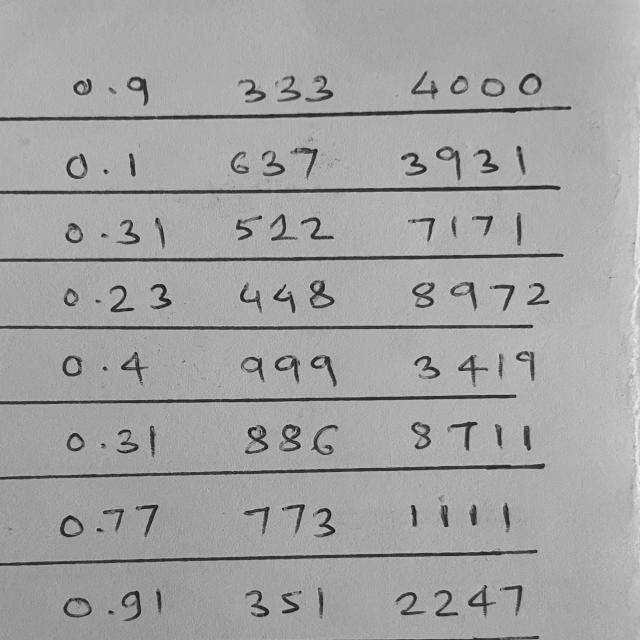Number: (374, 576, 536, 626), (381, 133, 543, 181), (391, 484, 524, 540), (396, 344, 554, 390), (401, 274, 561, 319), (396, 413, 542, 460), (395, 64, 554, 106), (392, 204, 544, 247), (51, 277, 189, 321), (228, 203, 348, 252), (47, 579, 174, 625), (47, 62, 171, 108), (56, 418, 176, 465), (214, 138, 338, 183), (229, 63, 348, 109), (50, 210, 178, 252), (41, 497, 168, 539), (229, 417, 345, 462), (228, 273, 346, 317), (50, 344, 159, 390), (236, 578, 335, 628), (232, 349, 343, 392), (233, 498, 344, 541), (54, 144, 151, 183)
